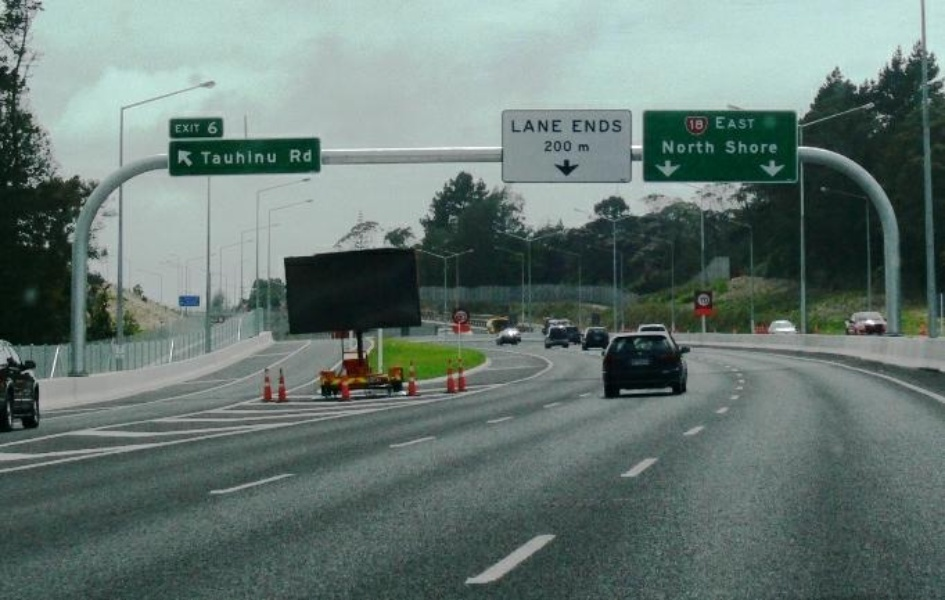text: (689, 116, 704, 135), (289, 147, 304, 165), (721, 114, 736, 132), (737, 114, 752, 132), (737, 139, 752, 157), (753, 139, 768, 157), (513, 118, 528, 135), (529, 118, 544, 135), (545, 118, 560, 135), (673, 139, 688, 156), (689, 139, 704, 156), (722, 139, 736, 157), (209, 149, 224, 165), (225, 149, 240, 165), (241, 149, 256, 165), (257, 149, 272, 165), (578, 140, 592, 156), (659, 139, 672, 156), (769, 139, 781, 157), (577, 120, 592, 134), (593, 120, 608, 134), (609, 120, 624, 134), (705, 139, 717, 156), (209, 120, 222, 135), (545, 140, 560, 153), (305, 147, 315, 165), (177, 124, 192, 135), (561, 140, 573, 153), (201, 149, 208, 165), (273, 149, 280, 165), (193, 124, 203, 135), (714, 114, 720, 132), (705, 116, 709, 135), (571, 120, 576, 134), (705, 294, 711, 305), (204, 120, 208, 135), (685, 116, 688, 135), (699, 294, 704, 305), (753, 114, 756, 132), (561, 118, 564, 135), (172, 124, 176, 135), (510, 118, 512, 135), (542, 140, 544, 153)
